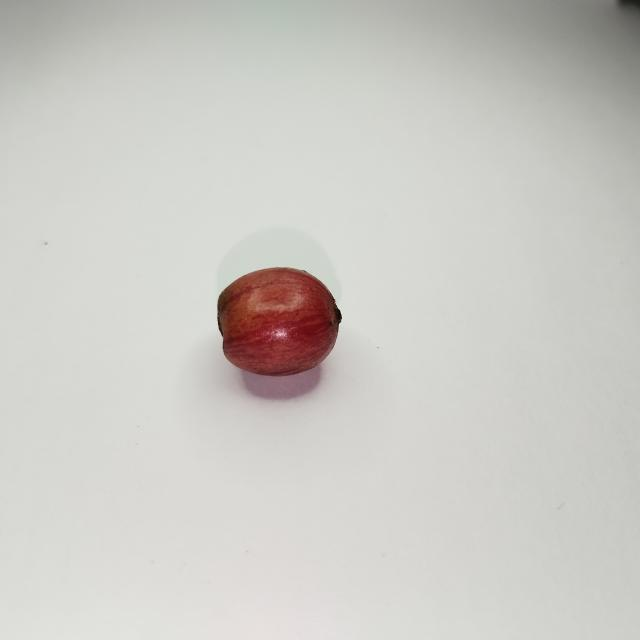Sano: (217, 267, 340, 378)
